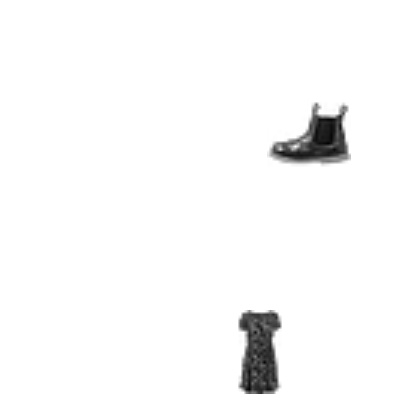Ankle_boot: (267, 91, 351, 175)
Dress: (218, 310, 302, 394)
